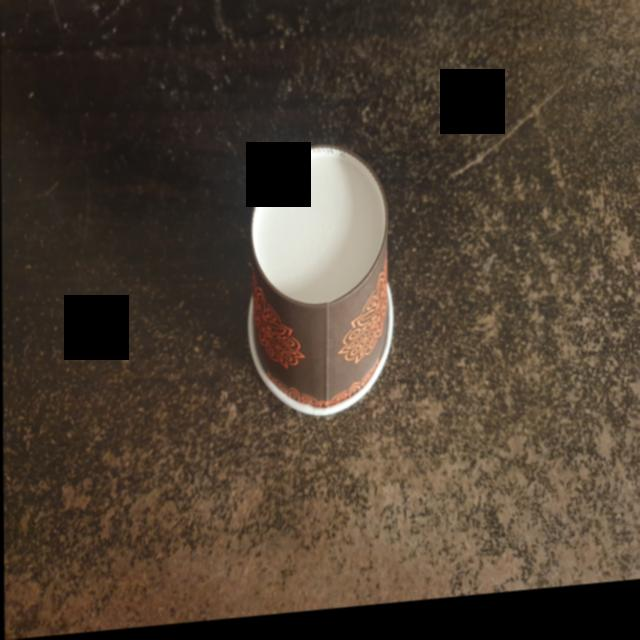cups: (244, 143, 403, 431)
